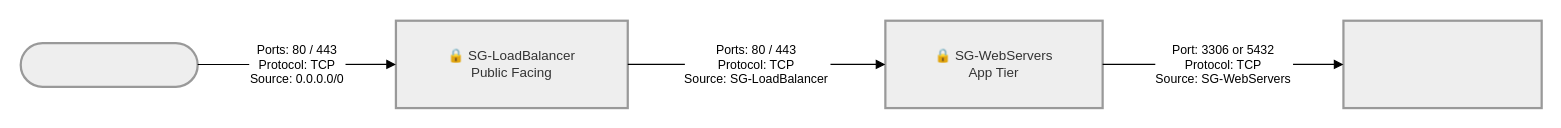
This 1561x128 diagram has some shape labels left out. Here are the shapes that lost their labels. From the top down, the centre of each, then its label:
At (108,64): "🌐 Public Internet".
At (1442,64): "🔒 SG-Database Data Tier".
